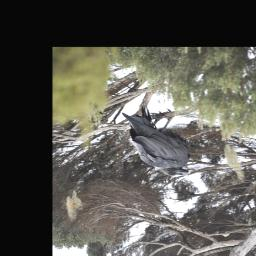Crow: (122, 103, 191, 177)
